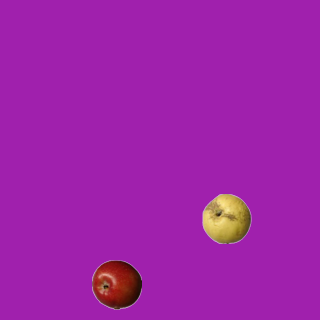Apple Braeburn: (91, 259, 141, 309)
Apple Golden 1: (201, 193, 251, 243)
